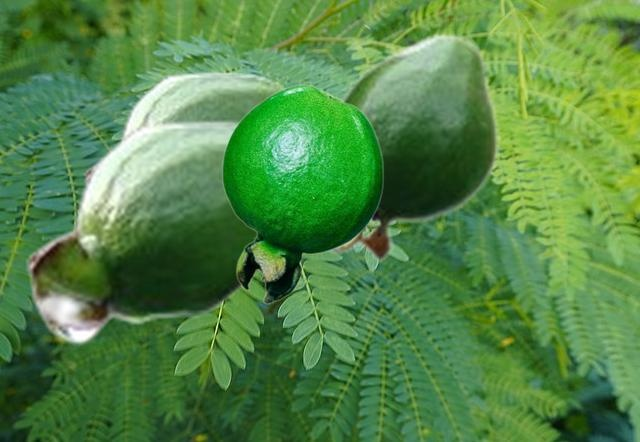guava: (26, 118, 261, 345), (328, 31, 498, 263), (221, 84, 383, 303), (84, 70, 288, 179)
